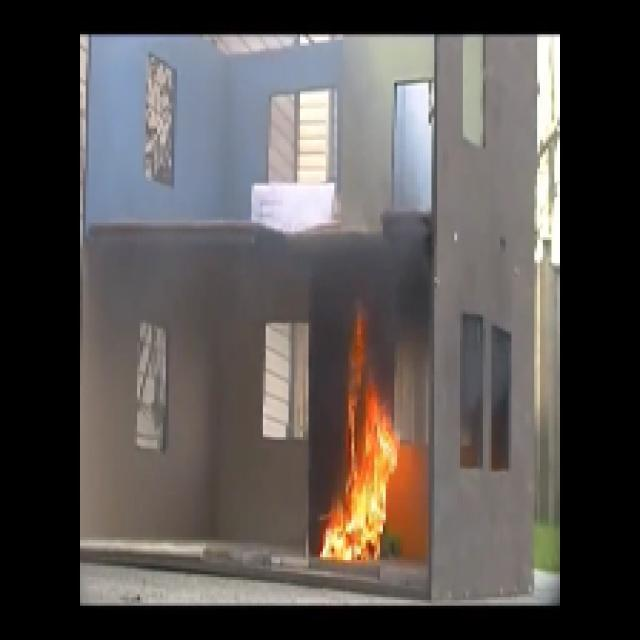Fire: (321, 391, 429, 575)
